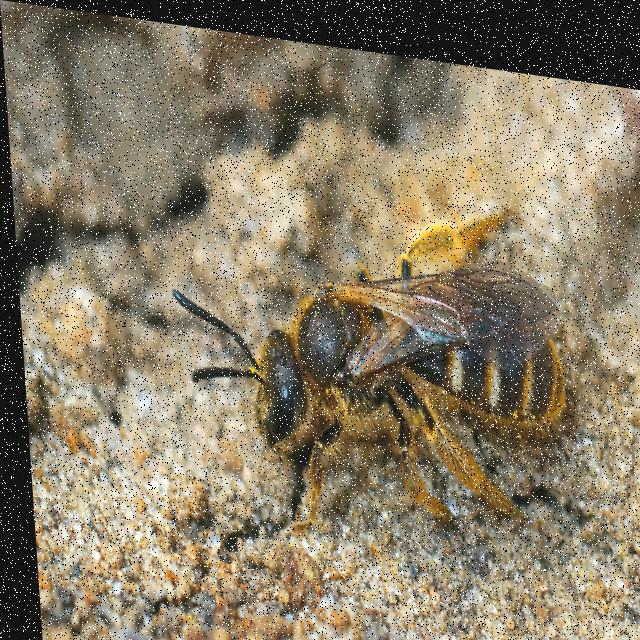Lasioglossum: (167, 161, 607, 534)
